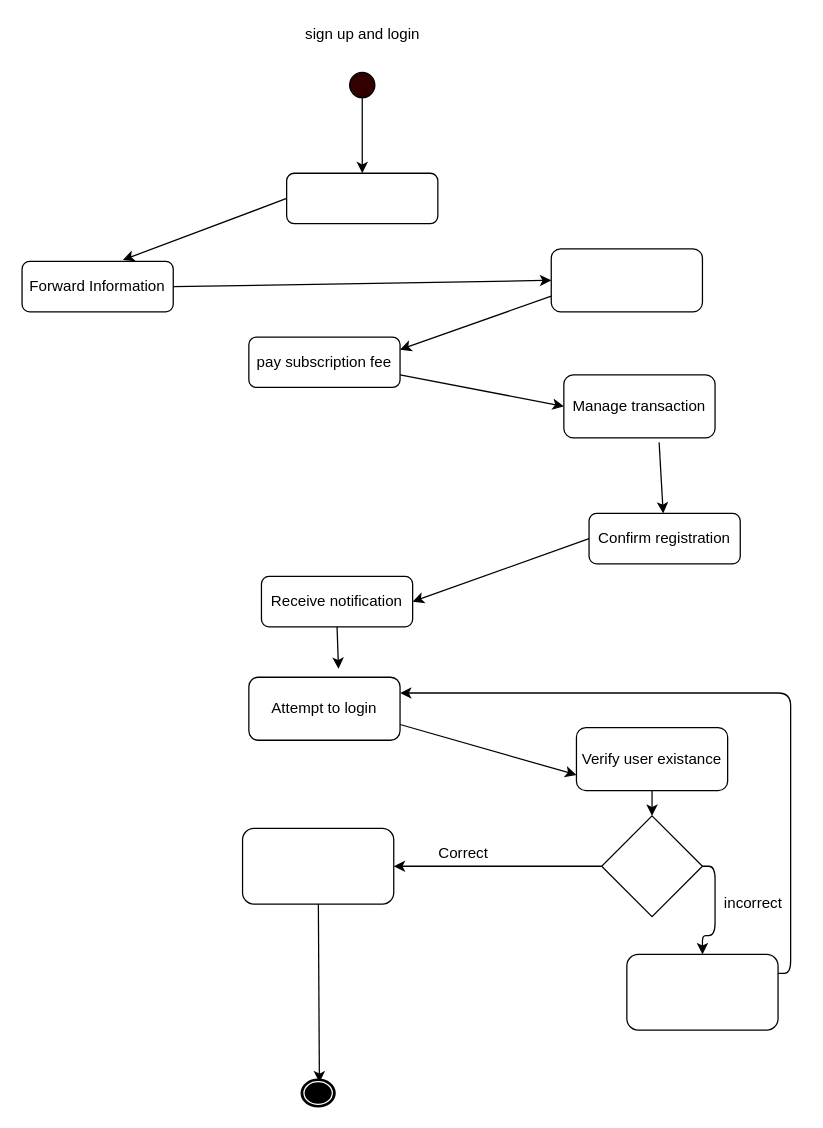
The diagram is 823 pixels wide and 1128 high, and some of its shapes have lost their labels. The shapes that lost their labels are listed below. From the top down, each one's box as (x1, y1, x2, y2) in pixels, then its label:
(285, 172, 438, 224): Sign up
(550, 248, 702, 312): Verify credentials
(241, 827, 394, 904): login successful
(626, 953, 778, 1030): Display error
